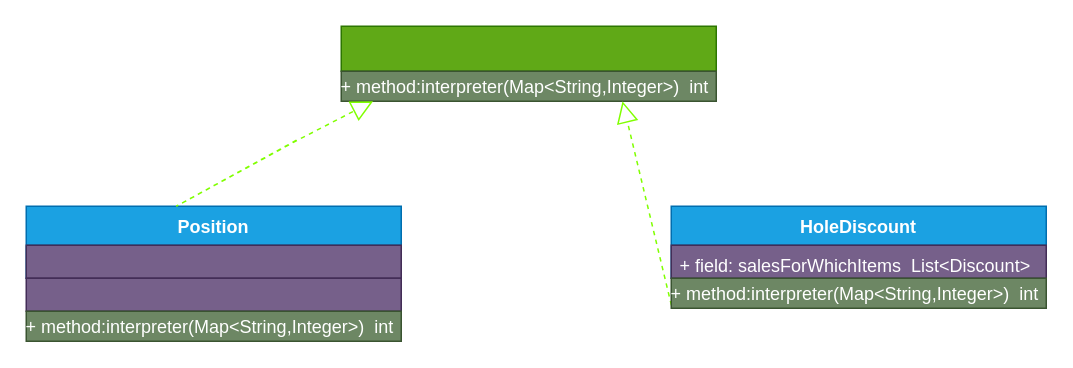
Image size: 1073x368. Some labels were removed from this diagram. Each missing label, with the centre of its shape:
"+ field: discount int" goes at point 213,261.
"+ field: itemName String" goes at point 213,294.
"«interface» Discount" goes at point 528,48.
